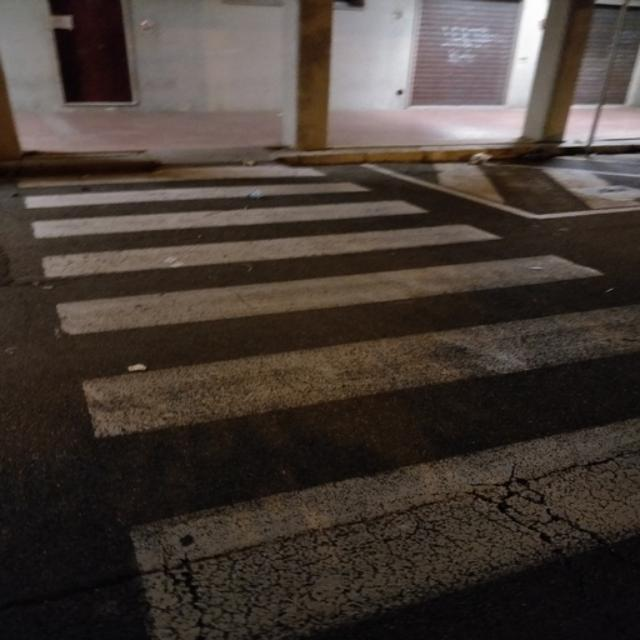sidewalk: (20, 160, 640, 640)
